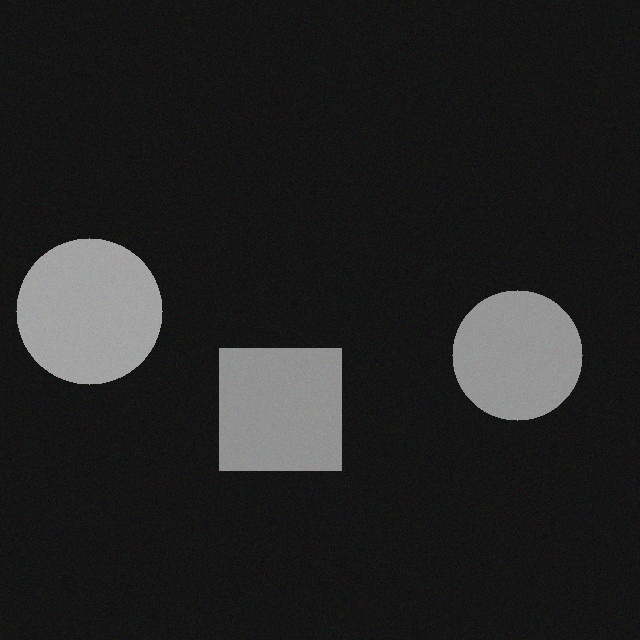circle: (14, 253, 160, 399), (450, 305, 580, 435)
square: (217, 363, 339, 485)
